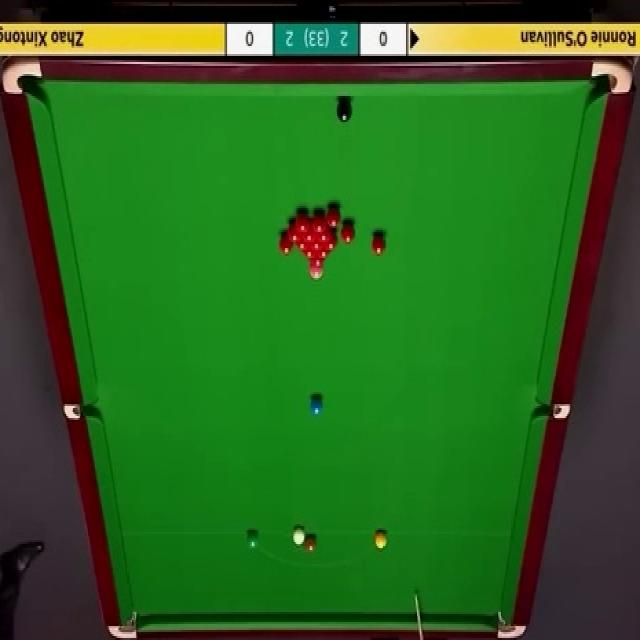black-ball: (336, 102, 354, 125)
blue-ball: (310, 398, 324, 415)
brown-ball: (305, 534, 316, 552)
green-ball: (245, 530, 260, 552)
pink-ball: (308, 262, 324, 277)
red-ball: (339, 223, 356, 246), (326, 204, 342, 228), (371, 234, 387, 256), (286, 221, 302, 243), (322, 230, 338, 251), (294, 212, 308, 234), (312, 214, 328, 233), (279, 233, 293, 254), (300, 241, 314, 261), (315, 246, 330, 258)
white-ball: (292, 528, 306, 546)
yellow-ball: (375, 530, 387, 550)
